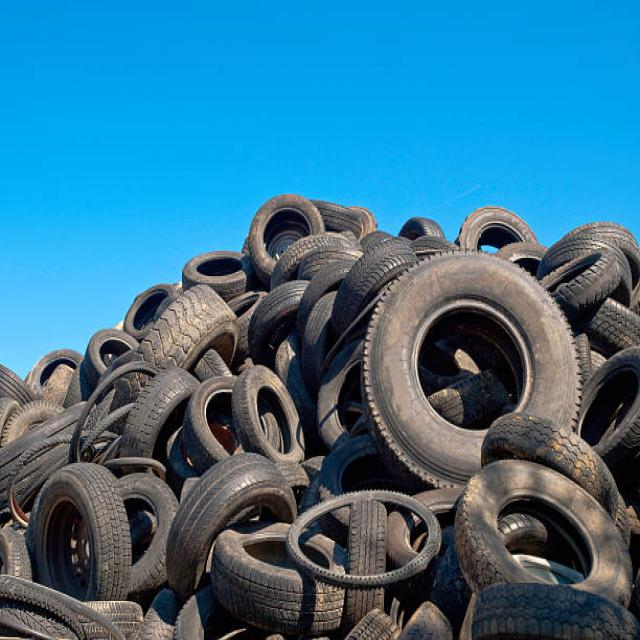plastic: (5, 168, 628, 624)
